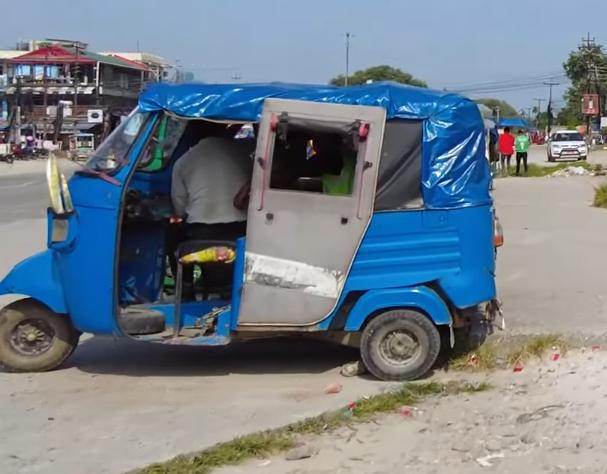auto_rickshaw: (0, 71, 510, 394)
car: (542, 129, 590, 164)
